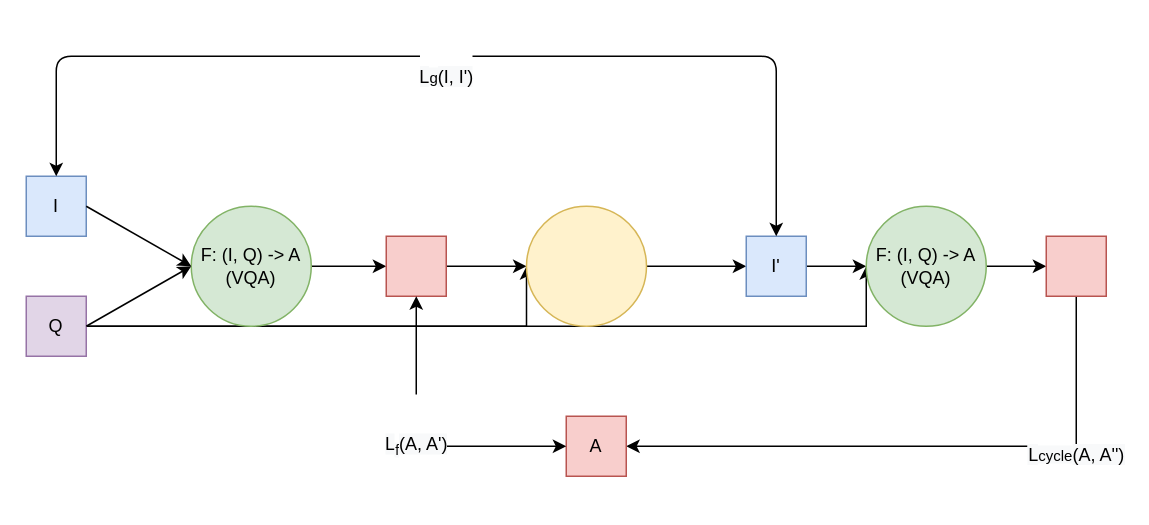
Some shapes in this 1149 by 525 pixel diagram are drawn without their labels. The shapes that lost their labels are listed below. From the top down, each one's centre as x and y in pixels, then its label:
At point 415,265: "A'".
At point 585,265: "G: (Q, A) -> I (IG)".
At point 1075,265: "A''".
